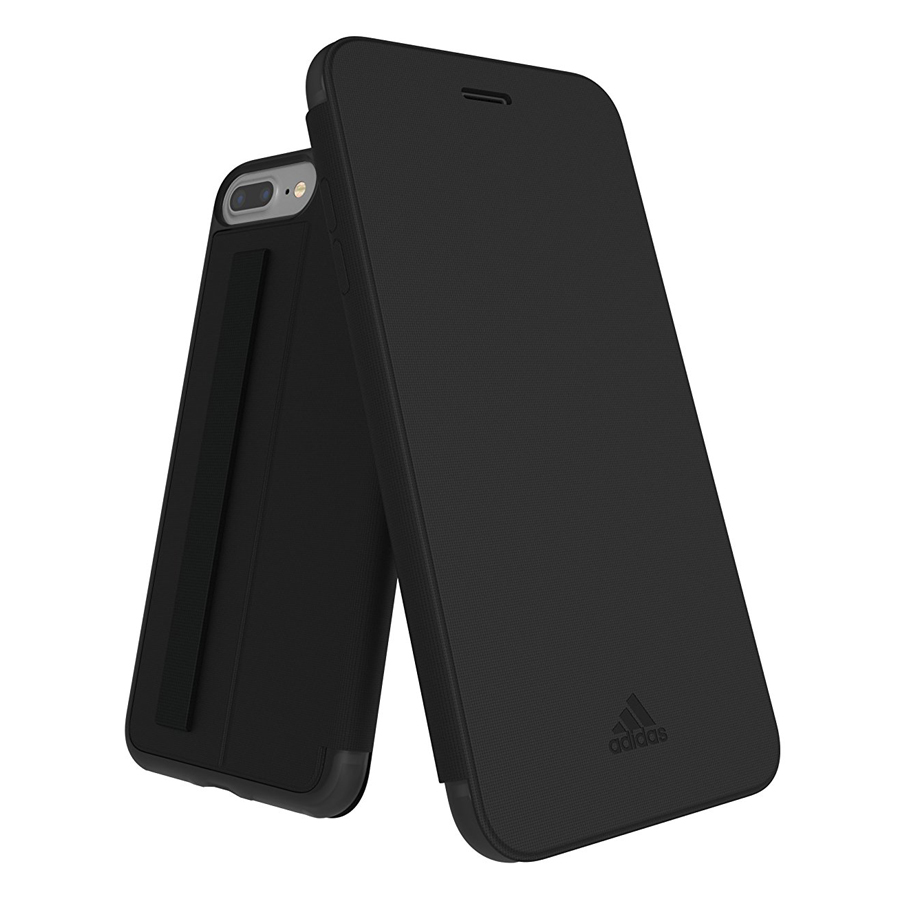Adidas: (600, 682, 673, 760)
